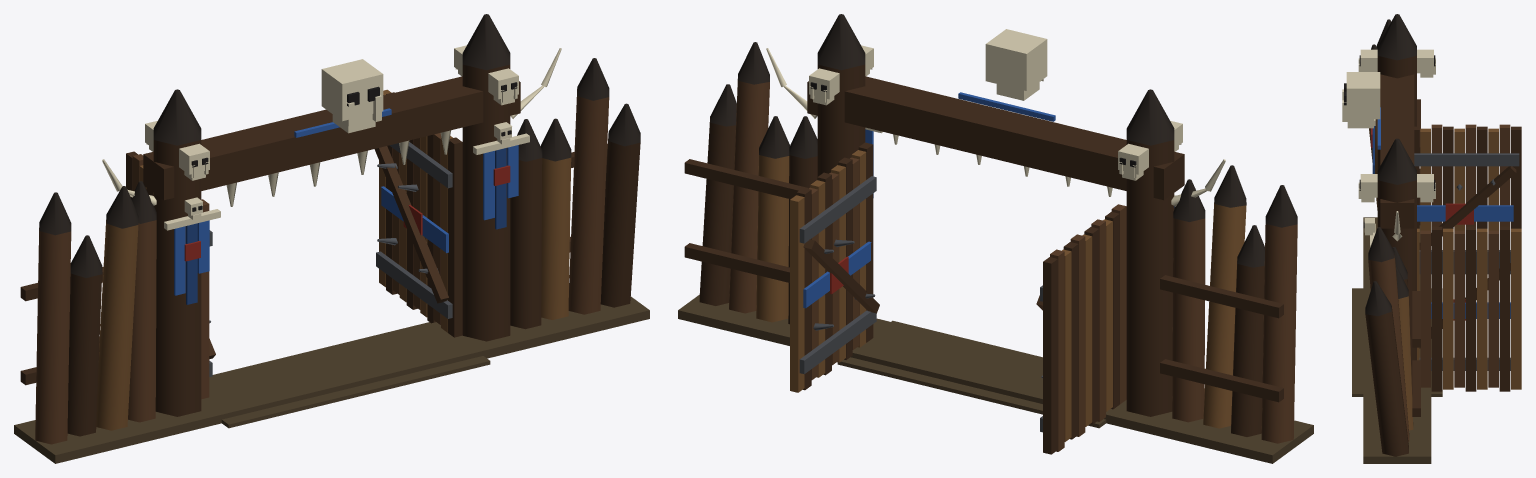
The model's file is orc-palisade-gate-open.glb.
3 renders of one model, left to right at view 1: azimuth 30°, elevation 25°; view 2: azimuth 150°, elevation 25°; view 3: azimuth 270°, elevation 25°, orthographic. The views are drawn at different scales.
Parts seen in each view (by area): view 1: orc-palisade-gate-open; view 2: orc-palisade-gate-open; view 3: orc-palisade-gate-open.
Part boxes in pixels (x1,y1,x2,y2): orc-palisade-gate-open: (14,14,649,463); orc-palisade-gate-open: (678,14,1313,463); orc-palisade-gate-open: (1342,14,1521,463).
Bounding box in the file's own units: 10 × 5.2 × 3.17.
1 material, 1 textured.
